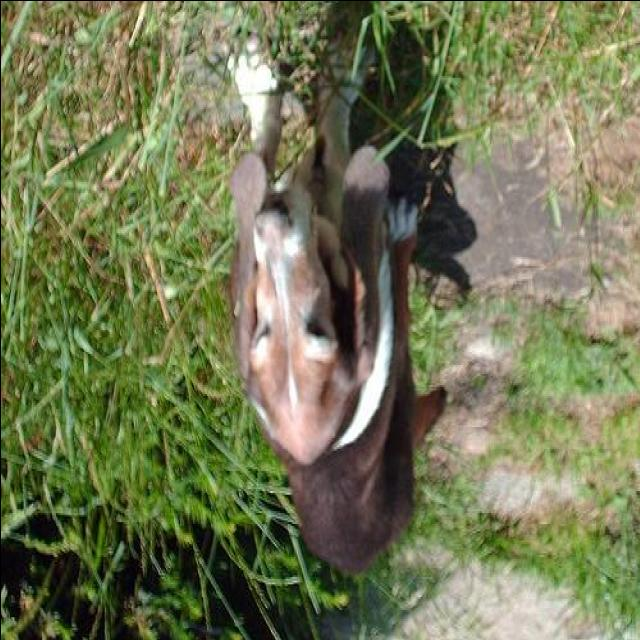basset: (220, 24, 447, 578)
